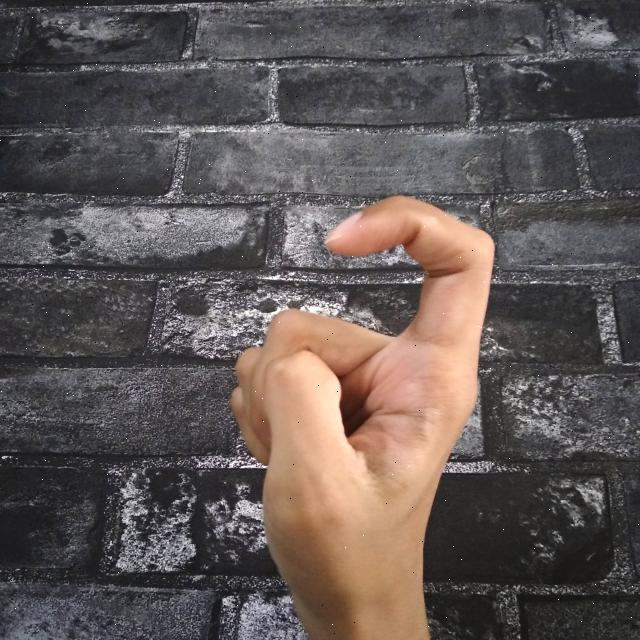X: (222, 190, 497, 640)
